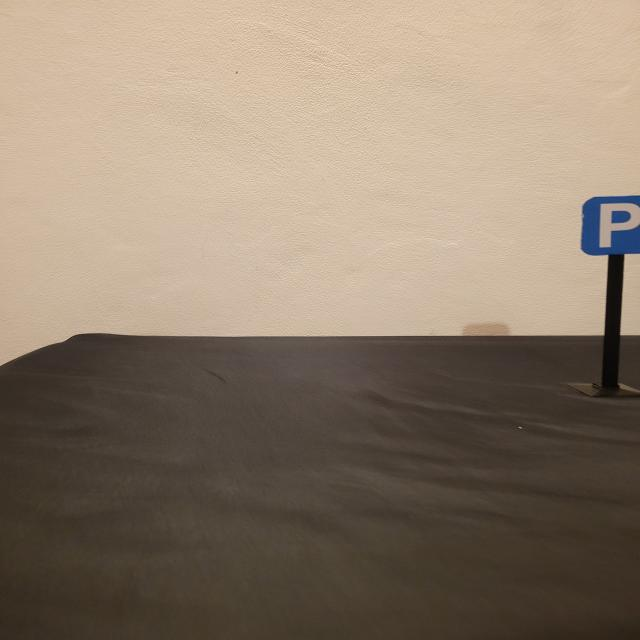parking: (581, 195, 640, 256)
